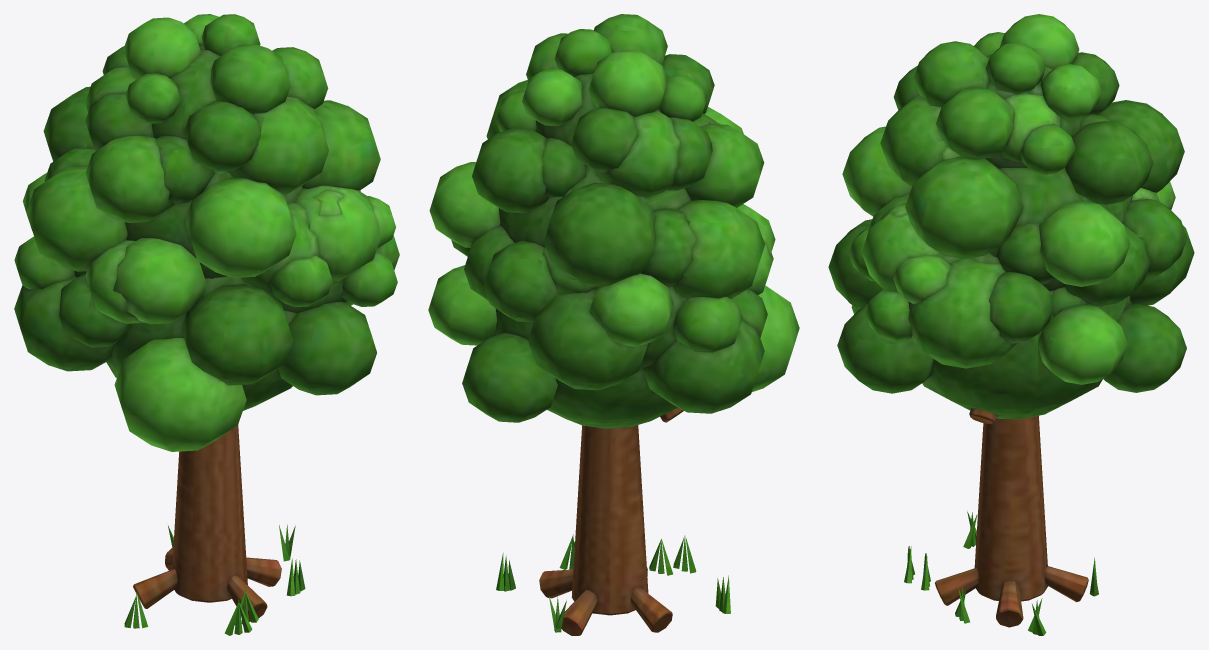
Rendered from pear_tree.glb.
3 renders of one model, left to right at view 1: azimuth 30°, elevation 25°; view 2: azimuth 150°, elevation 25°; view 3: azimuth 270°, elevation 25°, orthographic.
Visible parts, largest first — view 1: crown, pear_tree; view 2: crown, pear_tree; view 3: crown, pear_tree.
Boxes of the visible parts, box(x1,y1,x2,y2) form: crown: box(14, 14, 399, 451); pear_tree: box(124, 425, 305, 635); crown: box(428, 14, 799, 428); pear_tree: box(496, 407, 730, 635); crown: box(828, 14, 1194, 418); pear_tree: box(904, 408, 1098, 635).
Size of the model in its own units: 0.8865 by 1.48 by 0.8695.
1 material, 1 textured.
